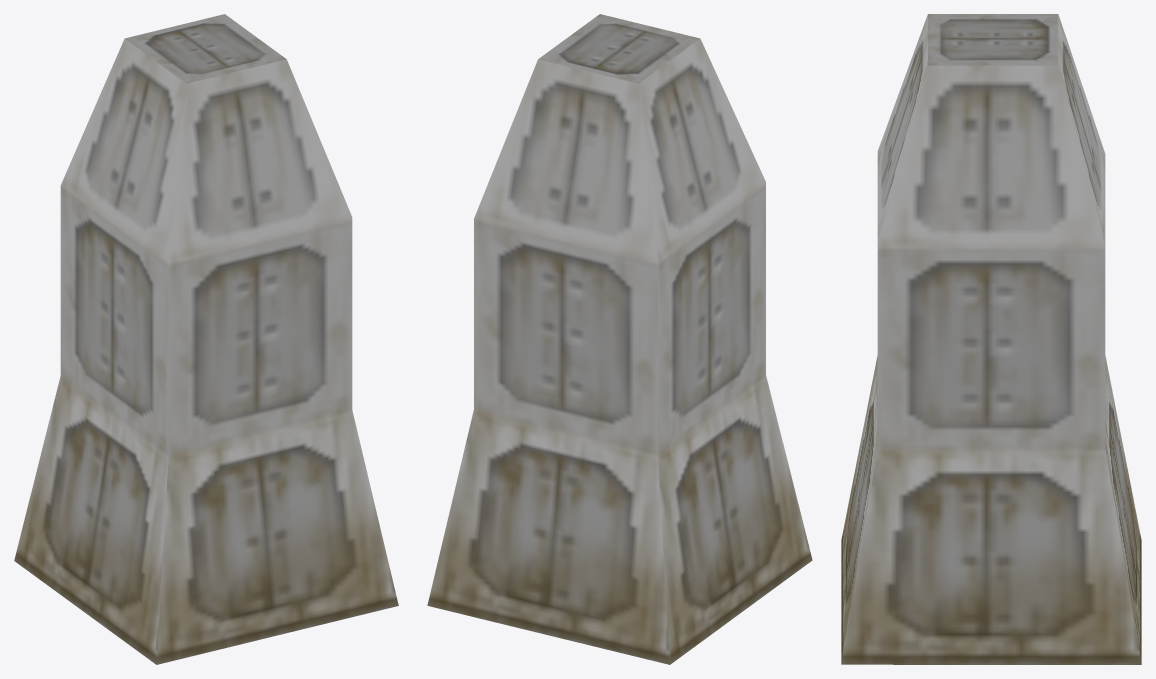
The model's file is l_mediumpost.glb.
The picture shows the model from 3 angles, left to right: view 1: azimuth 30°, elevation 25°; view 2: azimuth 150°, elevation 25°; view 3: azimuth 270°, elevation 25°; orthographic projection. The views are drawn at different scales.
Parts seen in each view (by area): view 1: L_MediumWall; view 2: L_MediumWall; view 3: L_MediumWall.
Boxes of the visible parts, left/top/right/bottom form: L_MediumWall: left=14, top=14, right=398, bottom=664; L_MediumWall: left=427, top=14, right=812, bottom=664; L_MediumWall: left=841, top=14, right=1141, bottom=664.
Size of the model in its own units: 5.49 by 11.57 by 5.59.
1 material, 1 textured.
